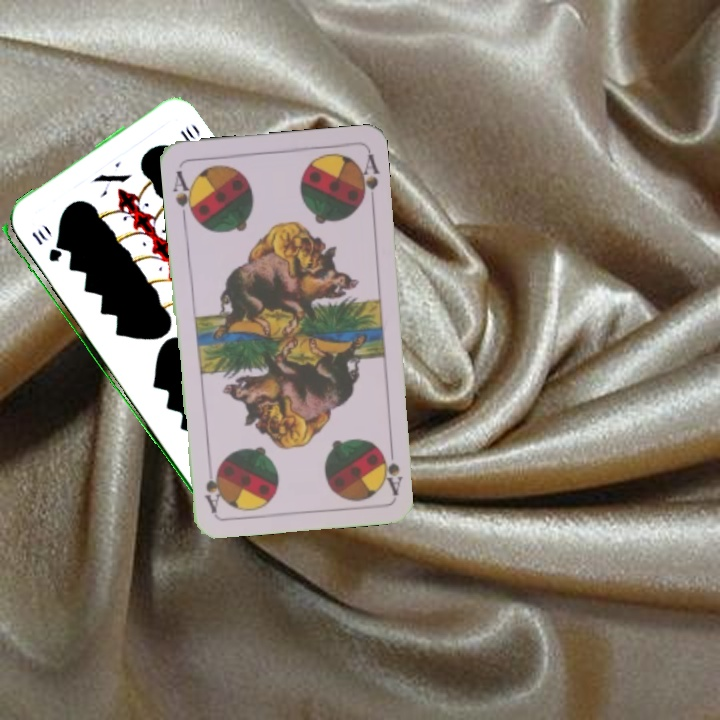G10: (27, 225, 62, 265)
SA: (169, 166, 199, 224), (378, 438, 405, 497)
